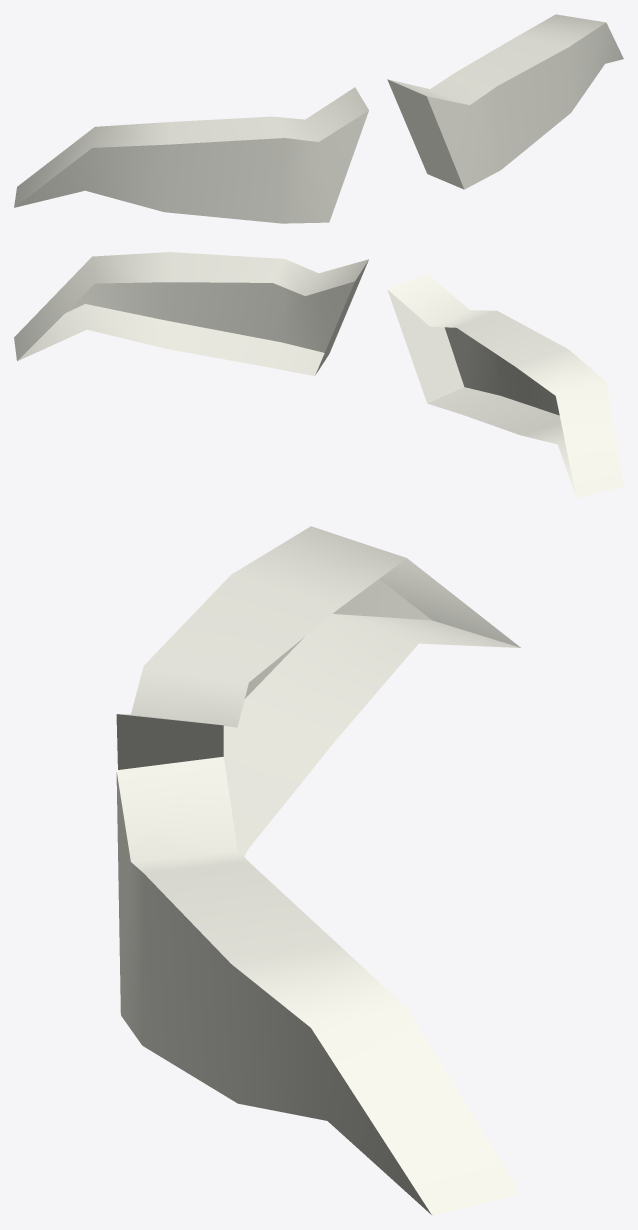
Rendered from Brow_White_8.fbx.
3 renders of one model, top to bottom at view 1: azimuth 30°, elevation 25°; view 2: azimuth 150°, elevation 25°; view 3: azimuth 270°, elevation 25°, orthographic. The views are drawn at different scales.
Parts seen in each view (by area): view 1: Brow_White_8; view 2: Brow_White_8; view 3: Brow_White_8.
Boxes of the visible parts, x1,y1,x2,y2 form: Brow_White_8: [14, 14, 623, 223]; Brow_White_8: [14, 252, 623, 497]; Brow_White_8: [116, 526, 520, 1215].
Size of the model in its own units: 41.99 by 6.88 by 12.07.
